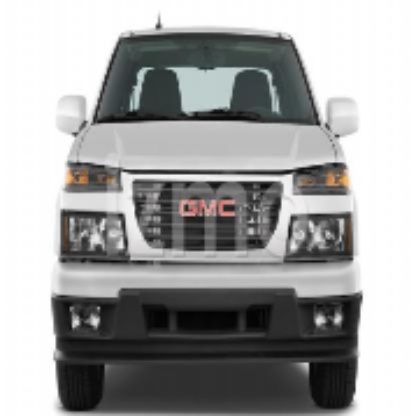Vehicle: (49, 7, 364, 415)
